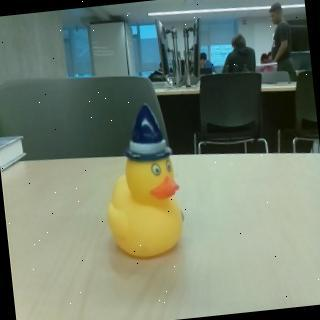duck_specialty: (95, 99, 190, 263)
